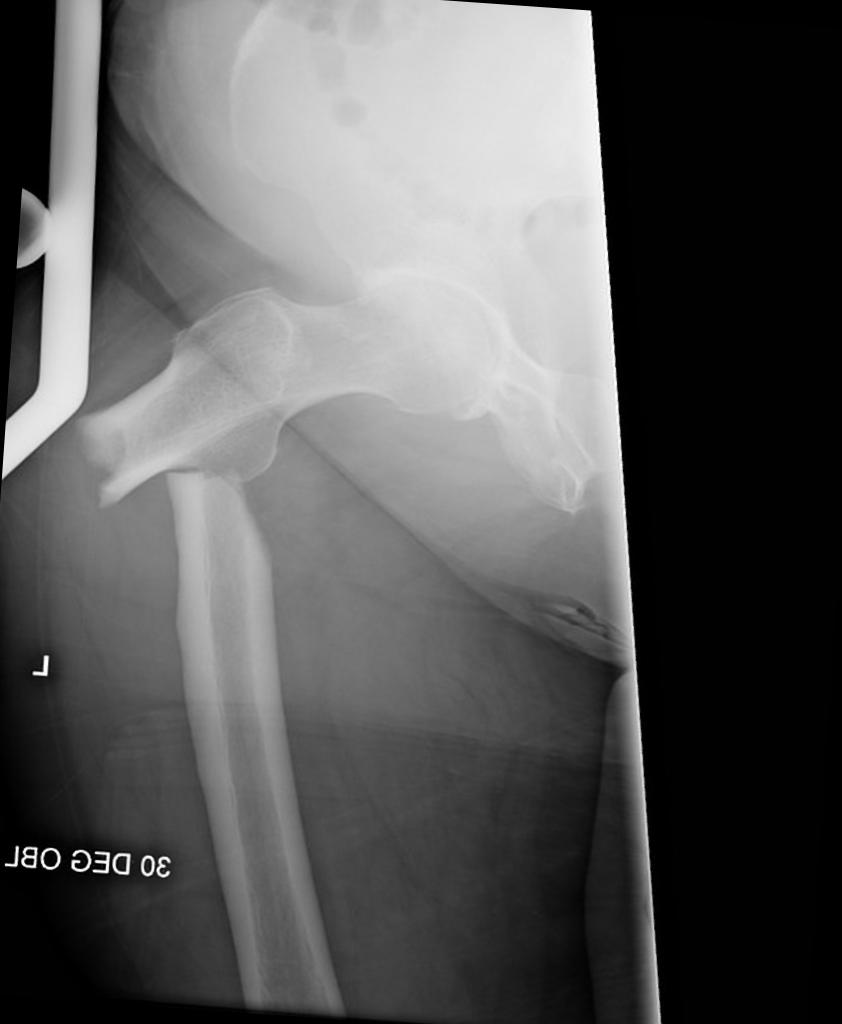messed_up_angle: (66, 410, 301, 544)
